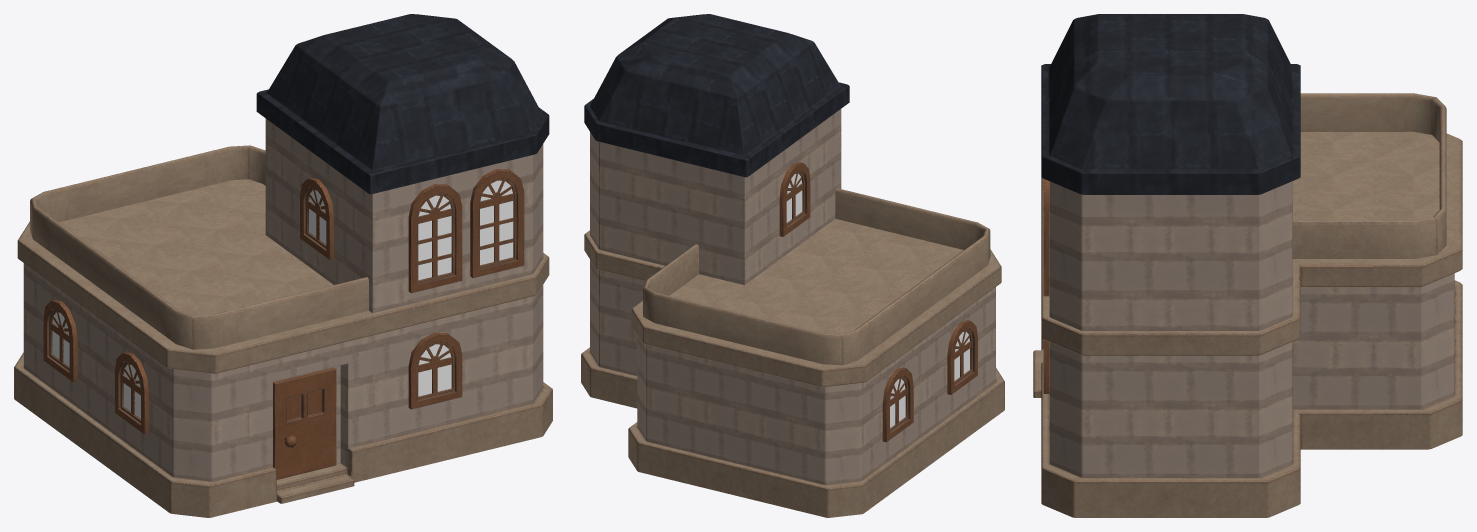
Rendered from house.glb.
3 views of the same model, side by side, from view 1: azimuth 30°, elevation 25°; view 2: azimuth 150°, elevation 25°; view 3: azimuth 270°, elevation 25° (orthographic). The views are drawn at different scales.
Parts seen in each view (by area): view 1: Plane.066; view 2: Plane.066; view 3: Plane.066.
Boxes of the visible parts, x1,y1,x2,y2 form: Plane.066: (14,14,552,517); Plane.066: (581,14,1004,517); Plane.066: (1033,14,1462,517).
Size of the model in its own units: 6.2 by 5.7 by 5.3.
Materials: 2 (1 with a texture image).
